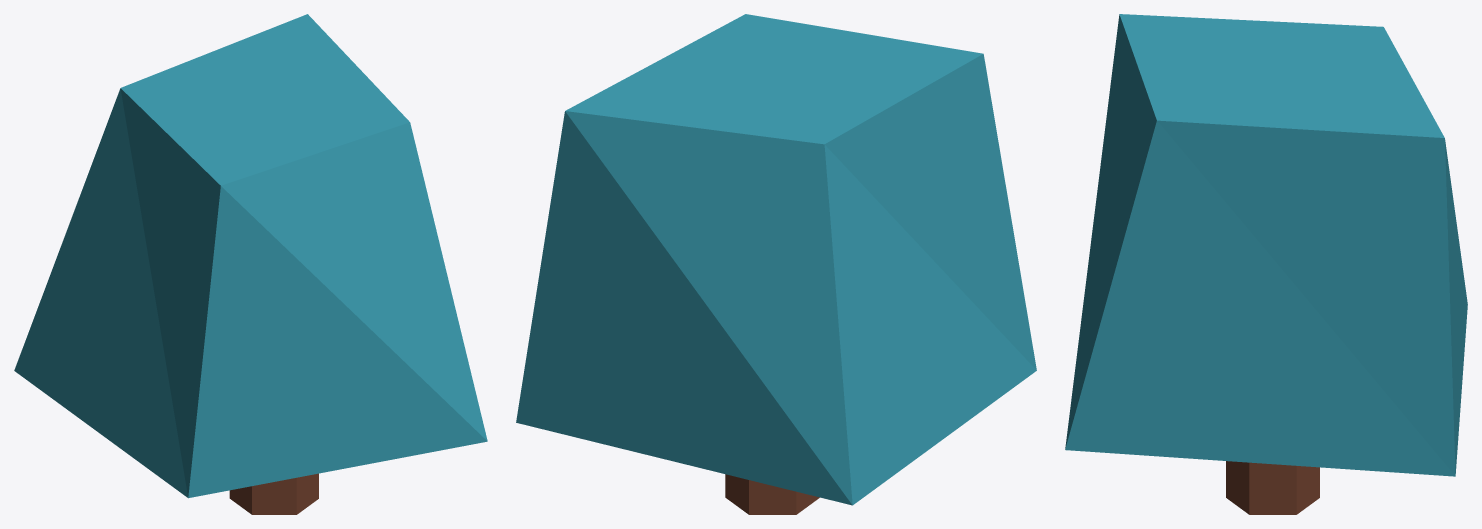
File: Bush_11_summer_blue_vc.fbx
3 views of the same model, side by side, from view 1: azimuth 30°, elevation 25°; view 2: azimuth 150°, elevation 25°; view 3: azimuth 270°, elevation 25° (orthographic). The views are drawn at different scales.
Parts seen in each view (by area): view 1: Bush_11_summer_blue_vc; view 2: Bush_11_summer_blue_vc; view 3: Bush_11_summer_blue_vc.
Part boxes in pixels (bbox=[...]): Bush_11_summer_blue_vc: bbox=[14, 14, 487, 514]; Bush_11_summer_blue_vc: bbox=[516, 14, 1036, 514]; Bush_11_summer_blue_vc: bbox=[1065, 14, 1467, 514].
Bounding box in the file's own units: 50.88 × 59.59 × 51.95.
